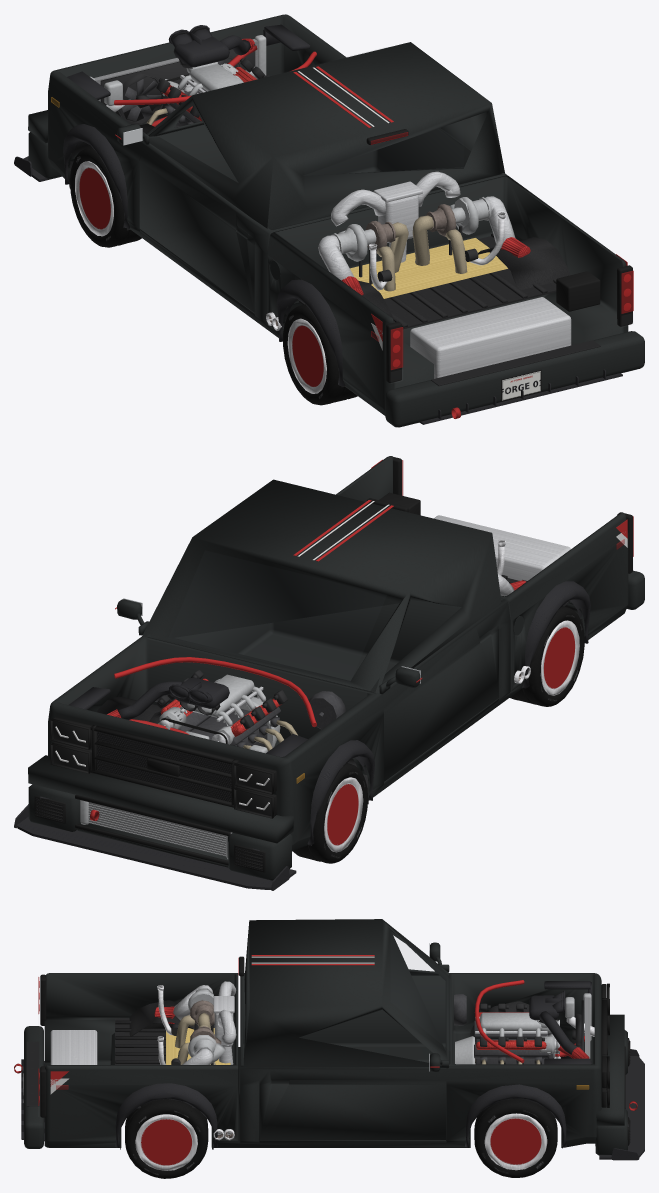
The model's file is acf_blackout_pickup_C.fbx.
3 renders of one model, top to bottom at view 1: azimuth 30°, elevation 25°; view 2: azimuth 150°, elevation 25°; view 3: azimuth 270°, elevation 25°, orthographic. The views are drawn at different scales.
Visible parts, largest first — view 1: BODY_SHELL, BODY_CAB_TOP, BED_FUEL_CELL, REAR_BUMPER, BED_FLOOR_RIBS, BODY_FLARES, ENGINE_CARBON_AIRBOX, TURBO_CHARGE_PIPES, TURBO_HEAT_SHIELD, BODY_WHEELHOUSES, TURBO_HOT_PIPES, WHEEL_LR_TYRE (+23 smaller); view 2: BODY_SHELL, BODY_CAB_TOP, FRONT_BUMPER, FRONT_SPLITTER, BODY_FLARES, LAMP_HOUSINGS, FRONT_GRILLE_MESH, FRONT_GRILLE_FRAME, ENGINE_CARBON_AIRBOX, FRONT_INTERCOOLER_CORE, BED_FUEL_CELL, FRONT_BUMPER_TRIM (+17 smaller); view 3: BODY_SHELL, BODY_CAB_TOP, BODY_FLARES, FRONT_BUMPER, WHEEL_RR_TYRE, WHEEL_RF_TYRE, ENGINE_CARBON_AIRBOX, FRONT_SPLITTER, RIM_BLUR_RR, RIM_BLUR_RF, BED_FLOOR_RIBS, BED_FUEL_CELL (+26 smaller).
Boxes of the visible parts, bbox=[...] form: BODY_SHELL: bbox=[48, 14, 628, 415]; BODY_CAB_TOP: bbox=[147, 42, 504, 229]; BED_FUEL_CELL: bbox=[410, 297, 571, 378]; REAR_BUMPER: bbox=[385, 331, 644, 427]; BED_FLOOR_RIBS: bbox=[298, 233, 557, 329]; BODY_FLARES: bbox=[63, 124, 345, 386]; ENGINE_CARBON_AIRBOX: bbox=[67, 24, 310, 99]; TURBO_CHARGE_PIPES: bbox=[318, 171, 515, 280]; TURBO_HEAT_SHIELD: bbox=[350, 238, 507, 298]; BODY_WHEELHOUSES: bbox=[69, 123, 570, 386]; TURBO_HOT_PIPES: bbox=[377, 215, 467, 291]; WHEEL_LR_TYRE: bbox=[283, 304, 357, 405]; BODY_SHELL: bbox=[48, 456, 628, 851]; BODY_CAB_TOP: bbox=[142, 479, 501, 693]; FRONT_BUMPER: bbox=[28, 755, 293, 880]; FRONT_SPLITTER: bbox=[14, 796, 296, 890]; BODY_FLARES: bbox=[307, 581, 590, 844]; LAMP_HOUSINGS: bbox=[50, 717, 276, 818]; FRONT_GRILLE_MESH: bbox=[97, 731, 231, 802]; FRONT_GRILLE_FRAME: bbox=[90, 725, 238, 807]; ENGINE_CARBON_AIRBOX: bbox=[68, 677, 307, 756]; FRONT_INTERCOOLER_CORE: bbox=[88, 802, 226, 856]; BED_FUEL_CELL: bbox=[434, 515, 570, 580]; FRONT_BUMPER_TRIM: bbox=[34, 795, 265, 872]; BODY_SHELL: bbox=[44, 973, 601, 1147]; BODY_CAB_TOP: bbox=[243, 919, 449, 1067]; BODY_FLARES: bbox=[115, 1083, 566, 1147]; FRONT_BUMPER: bbox=[595, 1014, 627, 1155]; WHEEL_RR_TYRE: bbox=[125, 1098, 208, 1178]; WHEEL_RF_TYRE: bbox=[474, 1098, 557, 1177]; ENGINE_CARBON_AIRBOX: bbox=[529, 981, 591, 1064]; FRONT_SPLITTER: bbox=[599, 1039, 644, 1160]; RIM_BLUR_RR: bbox=[140, 1118, 192, 1165]; RIM_BLUR_RF: bbox=[489, 1118, 542, 1165]; BED_FLOOR_RIBS: bbox=[115, 1018, 232, 1108]; BED_FUEL_CELL: bbox=[50, 1030, 97, 1064].
Size of the model in its own units: 242 by 160 by 538.
35 materials, 35 textured.
